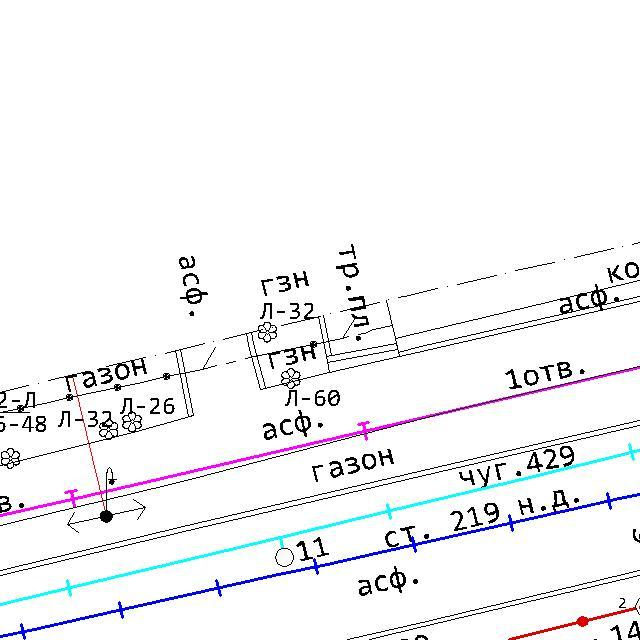asphalt: (357, 564, 420, 598), (262, 408, 324, 442), (178, 255, 210, 317), (559, 283, 621, 315)
bushes: (279, 366, 302, 391), (121, 411, 144, 434), (256, 321, 279, 344), (0, 447, 22, 469), (98, 418, 119, 441)
well: (274, 546, 296, 569)
